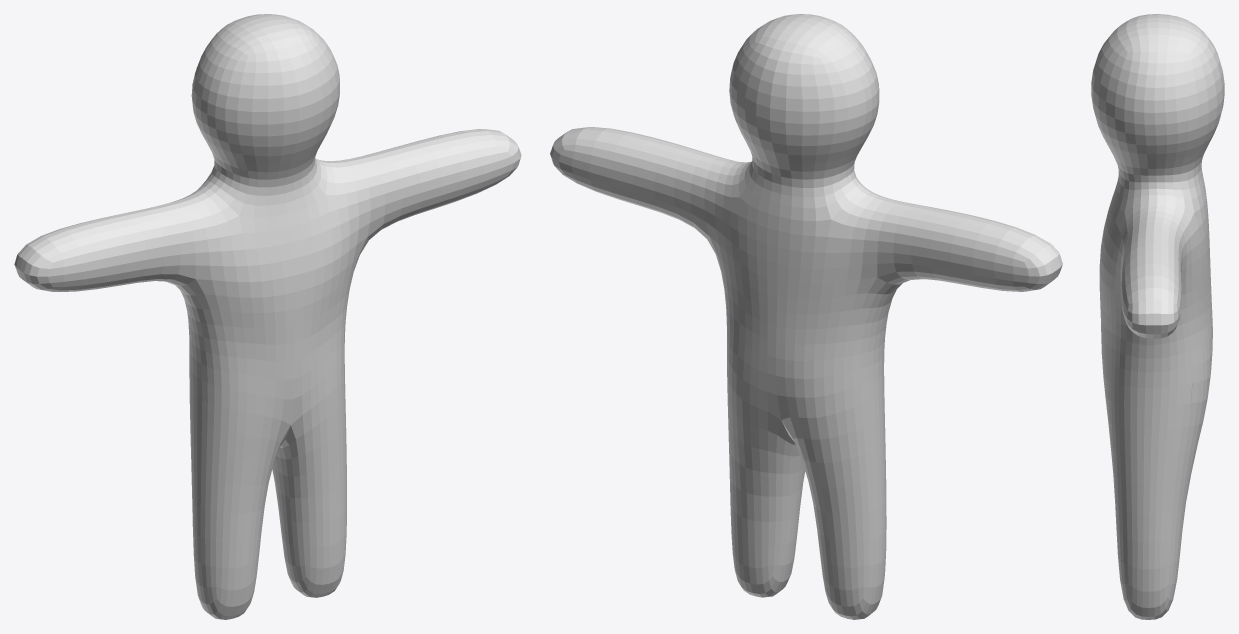
Rendered from BallBoy.fbx.
3 views of the same model, side by side, from view 1: azimuth 30°, elevation 25°; view 2: azimuth 150°, elevation 25°; view 3: azimuth 270°, elevation 25° (orthographic). The views are drawn at different scales.
Parts seen in each view (by area): view 1: LowModel_Baked; view 2: LowModel_Baked; view 3: LowModel_Baked.
Part boxes in pixels (left/top/right/bottom): LowModel_Baked: left=14, top=14, right=521, bottom=619; LowModel_Baked: left=550, top=14, right=1062, bottom=619; LowModel_Baked: left=1091, top=14, right=1224, bottom=619.
Bounding box in the file's own units: 178 × 198 × 41.97.
